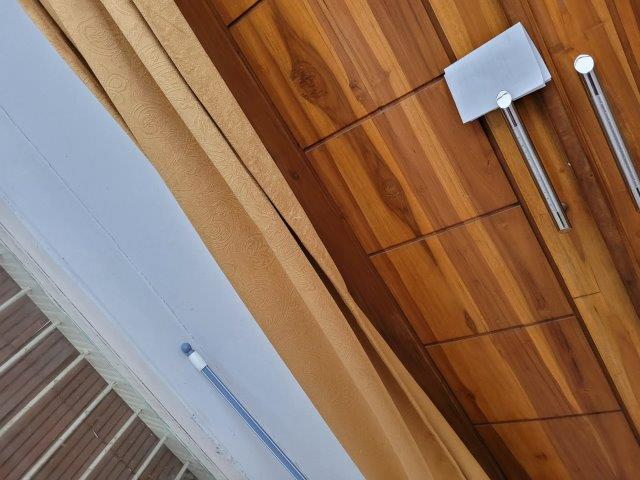kertas: (444, 22, 552, 124)
